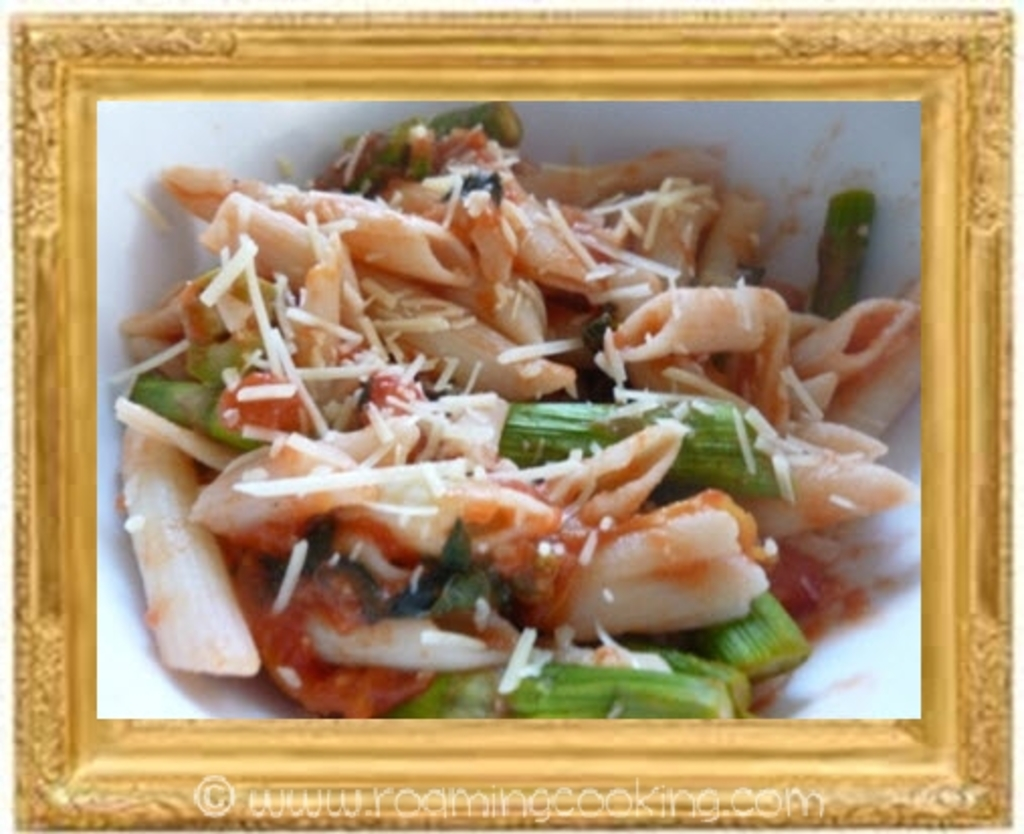salad: (89, 95, 937, 727)
